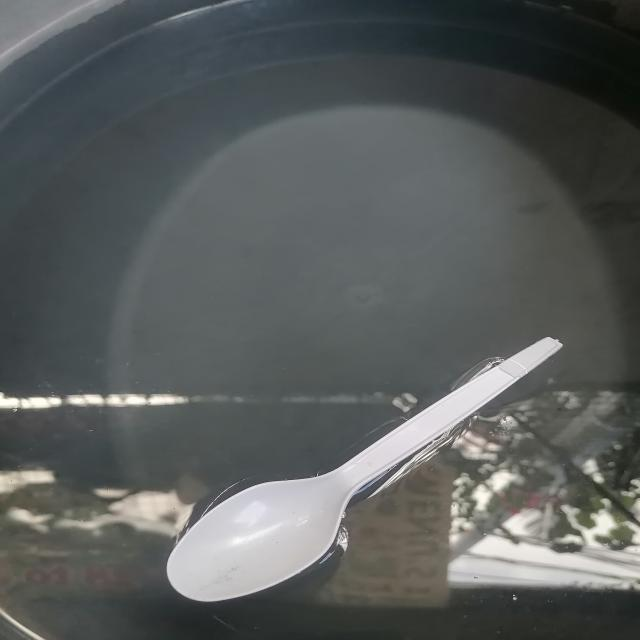Plastic Spoon: (166, 337, 562, 602), (317, 530, 323, 540), (190, 532, 197, 539), (201, 534, 206, 539)
